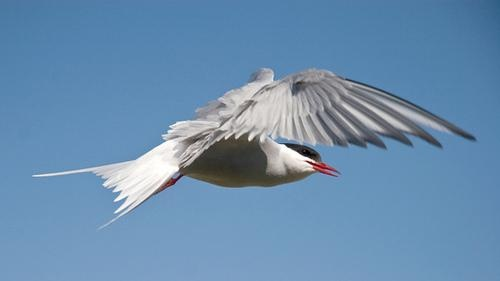bird: (29, 65, 477, 233)
